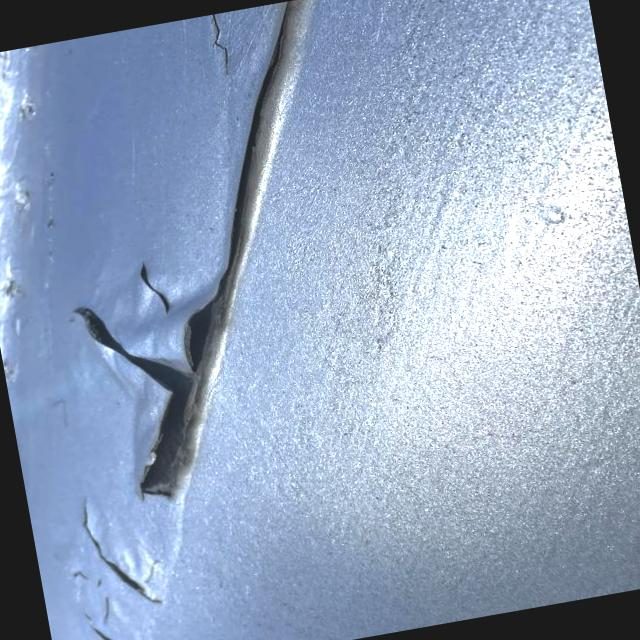crack: (82, 512, 169, 612), (190, 21, 252, 76), (127, 266, 175, 321)
